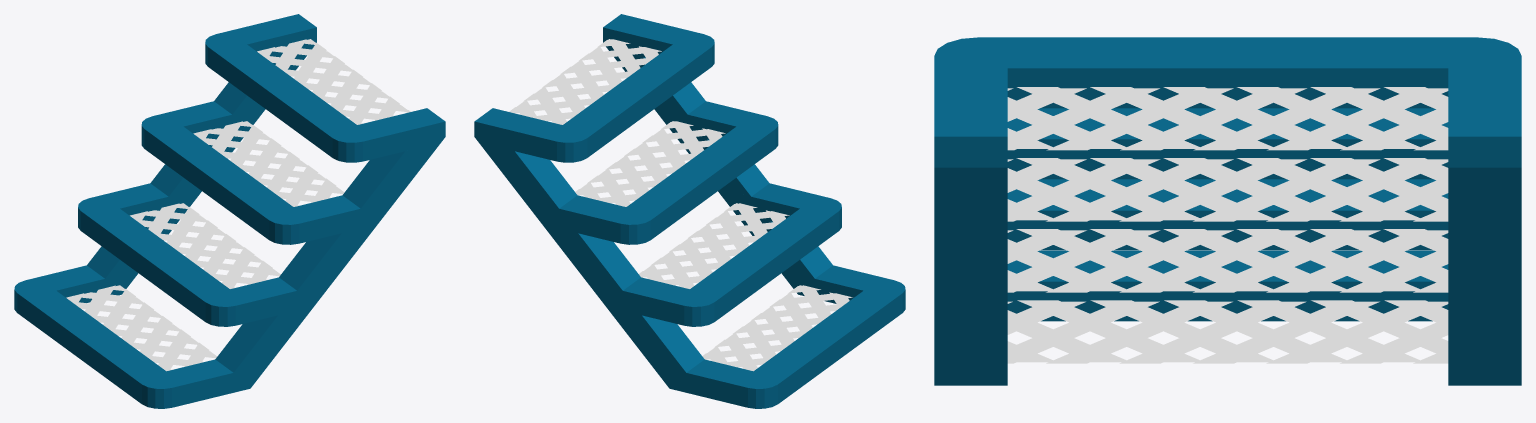
Rendered from G01_026_Stair.fbx.
3 views of the same model, side by side, from view 1: azimuth 30°, elevation 25°; view 2: azimuth 150°, elevation 25°; view 3: azimuth 270°, elevation 25° (orthographic). The views are drawn at different scales.
Parts seen in each view (by area): view 1: 013_Mesh_W_B.003; view 2: 013_Mesh_W_B.003; view 3: 013_Mesh_W_B.003.
Part boxes in pixels (left/top/right/bottom): 013_Mesh_W_B.003: left=14, top=14, right=445, bottom=408; 013_Mesh_W_B.003: left=474, top=14, right=905, bottom=408; 013_Mesh_W_B.003: left=934, top=37, right=1521, bottom=385.
Size of the model in its own units: 460 by 330 by 400.
